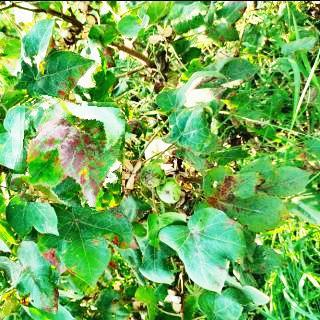blight: (15, 96, 125, 206)
